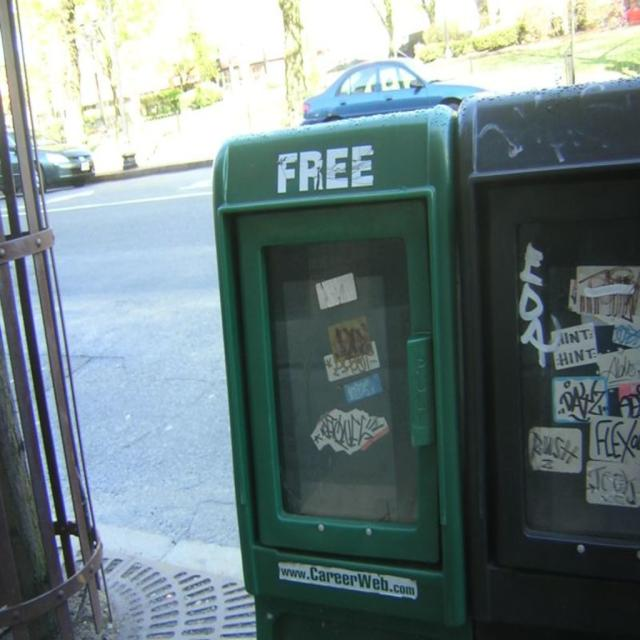car: (300, 59, 492, 106), (0, 129, 98, 193)
